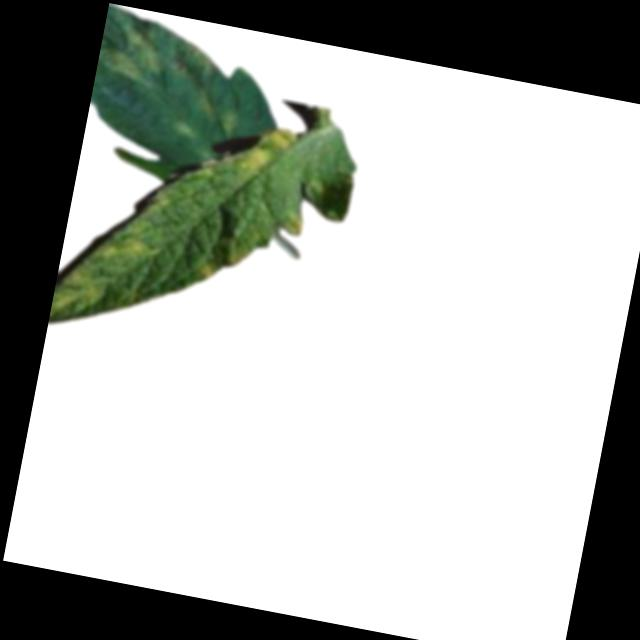Leaf_Mold: (95, 4, 175, 87), (238, 119, 301, 182), (89, 228, 155, 269), (283, 212, 308, 239), (193, 260, 217, 283)
